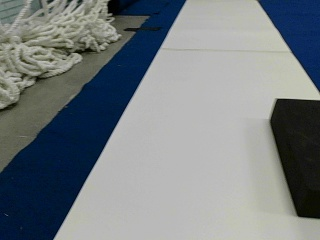block: (271, 96, 317, 219)
